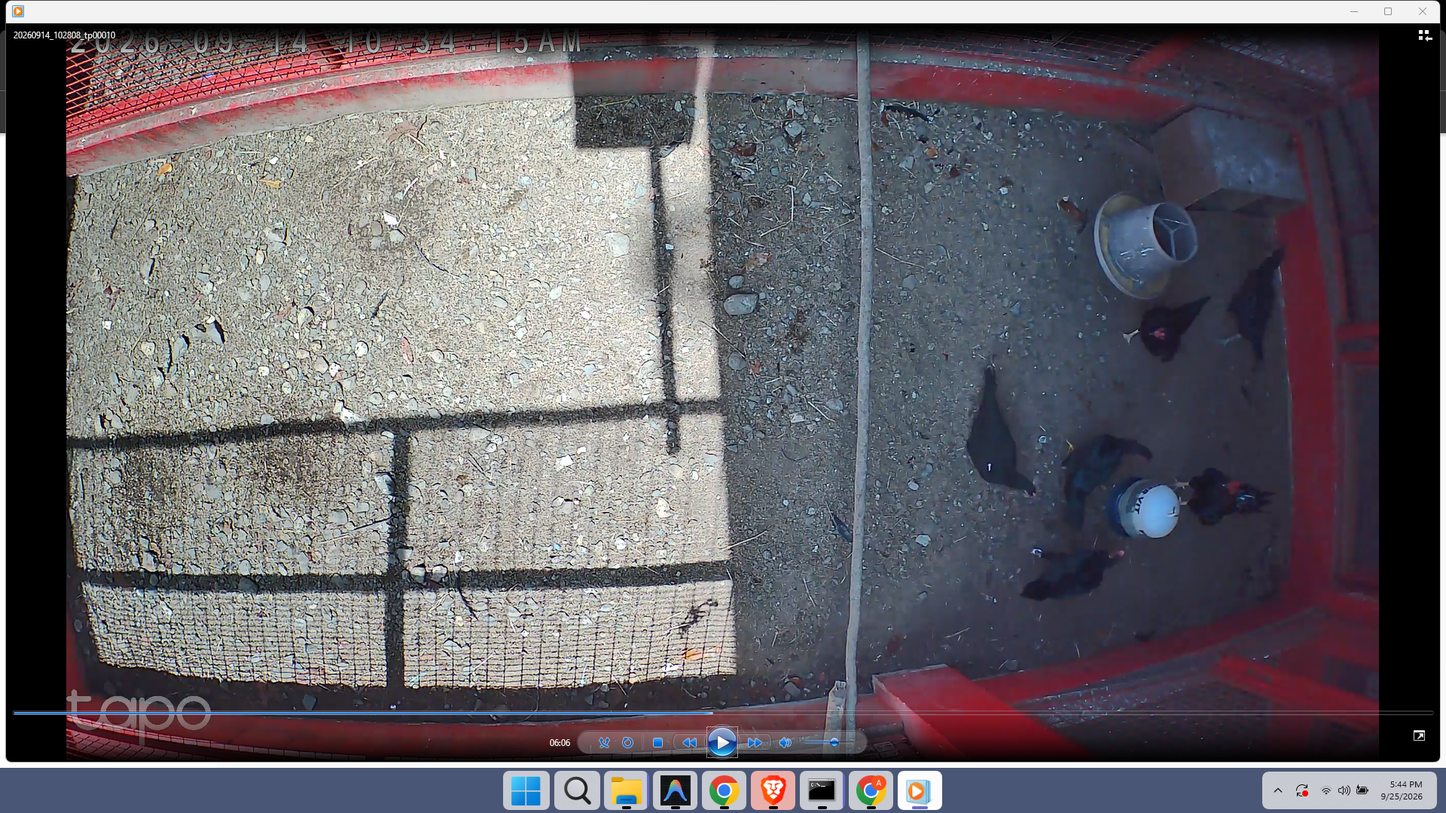Chicken: (964, 366, 1038, 501), (1059, 436, 1154, 530), (1212, 241, 1288, 357), (1013, 545, 1128, 605), (1118, 292, 1213, 363)
Drinker: (1108, 475, 1181, 542)
Feeder: (1095, 190, 1200, 299)
Leg_Band_White: (1032, 547, 1045, 556)
Leg_Band_Yellow: (1069, 443, 1074, 453)
Rooster: (1172, 465, 1276, 528)
